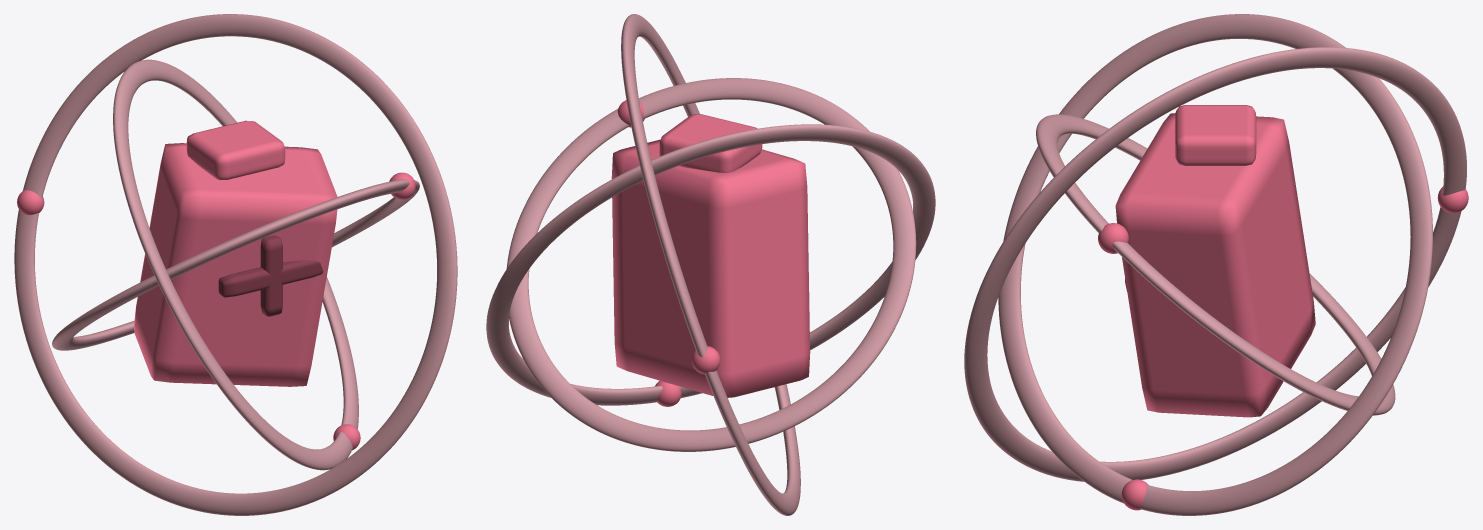
3 views of the same model, side by side, from view 1: azimuth 30°, elevation 25°; view 2: azimuth 150°, elevation 25°; view 3: azimuth 270°, elevation 25° (orthographic). The views are drawn at different scales.
Bounding box in the file's own units: 0.9474 × 1.13 × 1.06.
